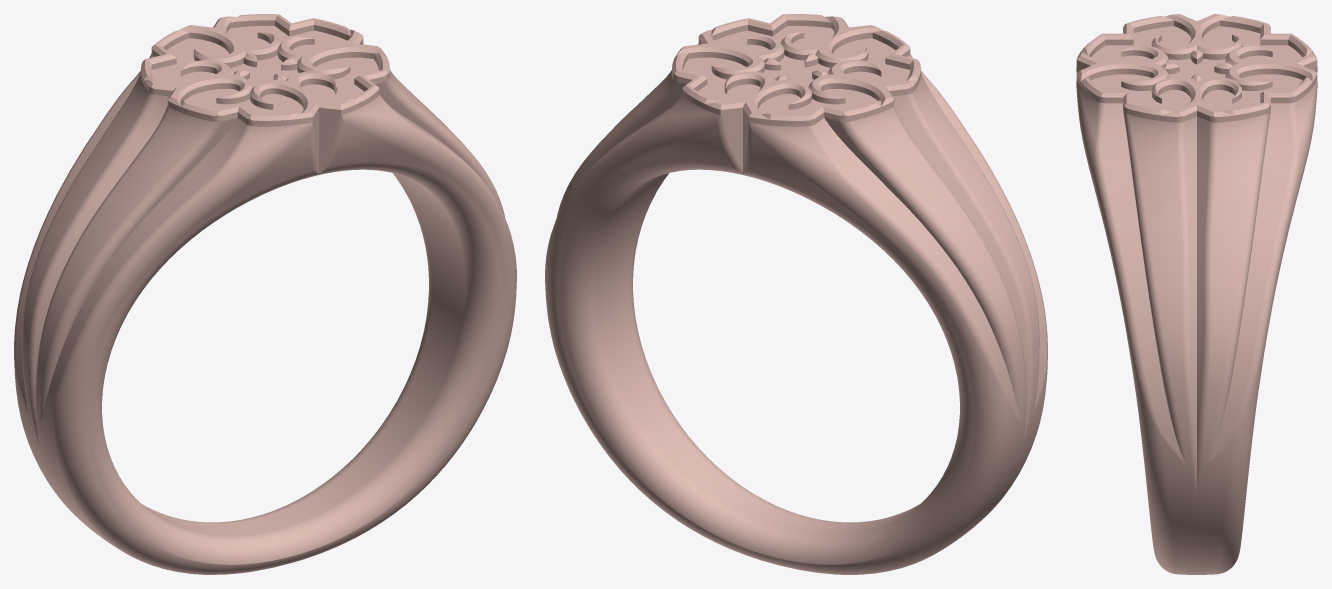
File: body_05.glb
3 renders of one model, left to right at view 1: azimuth 30°, elevation 25°; view 2: azimuth 150°, elevation 25°; view 3: azimuth 270°, elevation 25°, orthographic. The views are drawn at different scales.
Bounding box in the file's own units: 0.0216 × 0.0219 × 0.00993.
